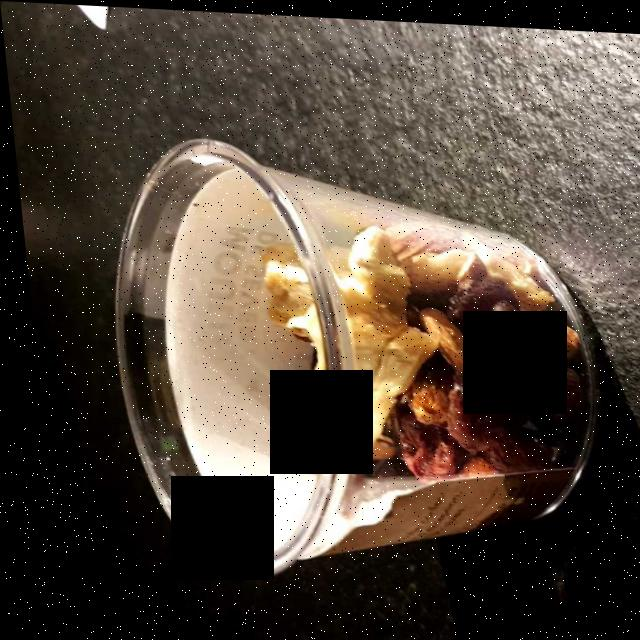mixed-nuts: (248, 192, 572, 477)
